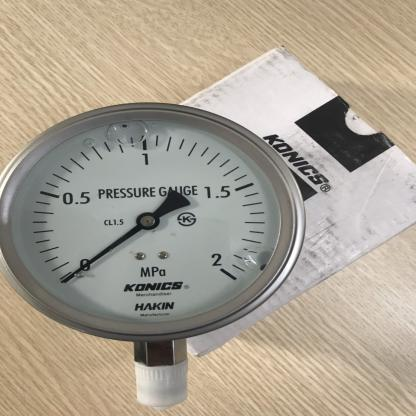needle: (60, 224, 143, 285)
